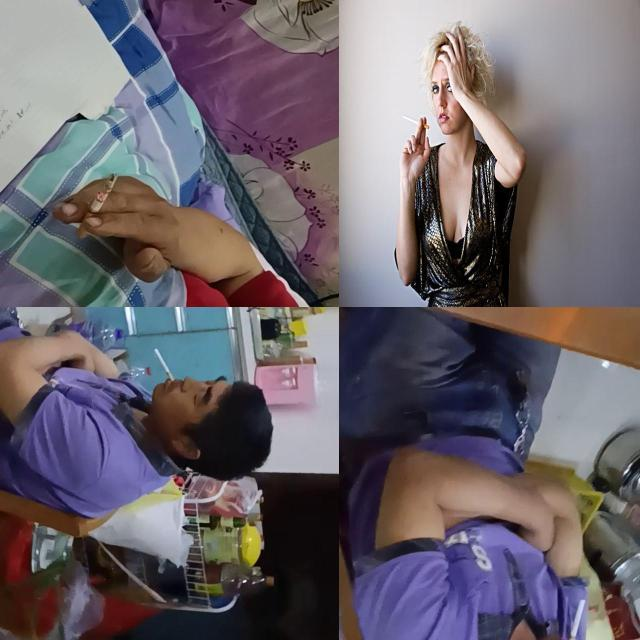smoking: (75, 172, 118, 240), (566, 600, 586, 640), (154, 348, 174, 382), (402, 114, 430, 130)
